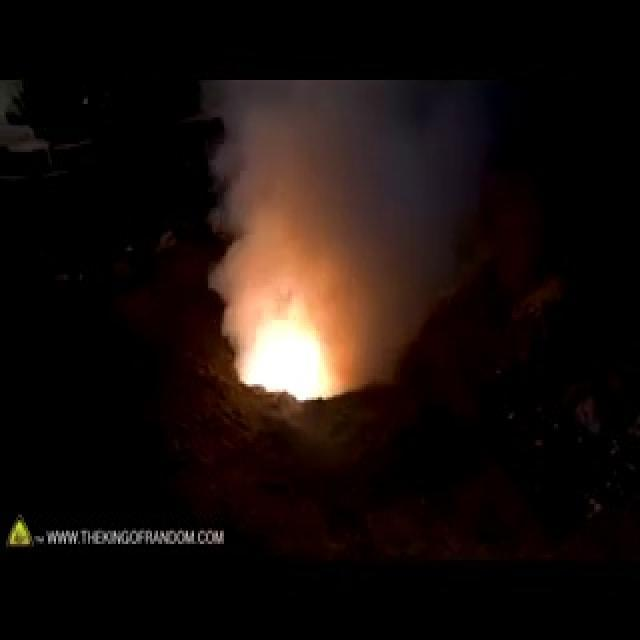fire: (221, 236, 409, 457)
